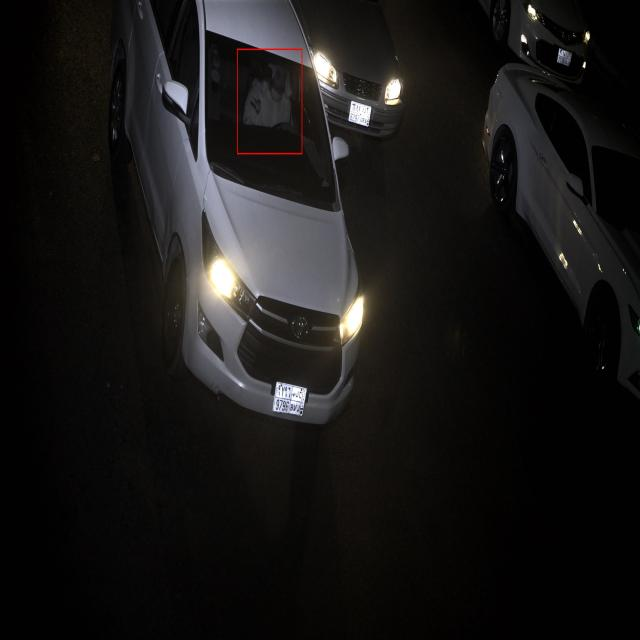windshield: (204, 23, 341, 218)
